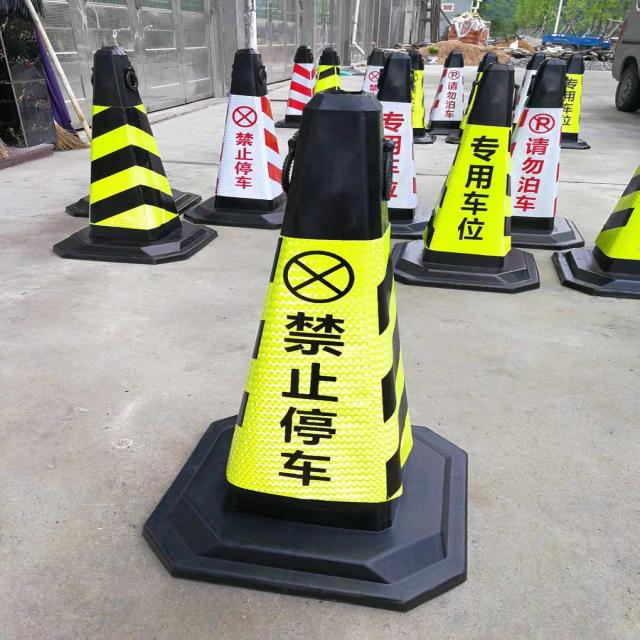car: (606, 4, 639, 106)
reflective_cone: (146, 92, 477, 610), (52, 44, 220, 262), (387, 65, 540, 292), (180, 44, 284, 230), (517, 56, 586, 247), (555, 156, 639, 295), (375, 50, 433, 235), (275, 45, 317, 127), (429, 49, 465, 134), (566, 52, 594, 150)
